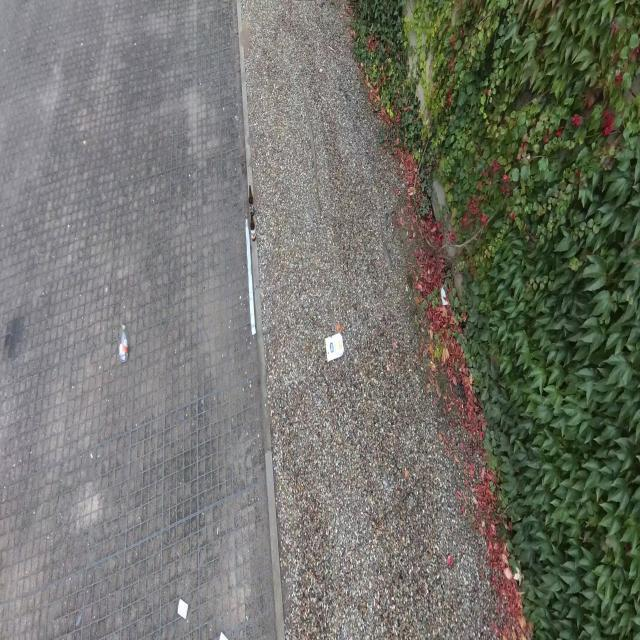rubbish: (245, 219, 256, 335), (325, 333, 345, 361), (119, 322, 128, 364), (177, 597, 189, 620), (249, 186, 255, 216), (250, 213, 256, 241), (219, 630, 228, 640)
